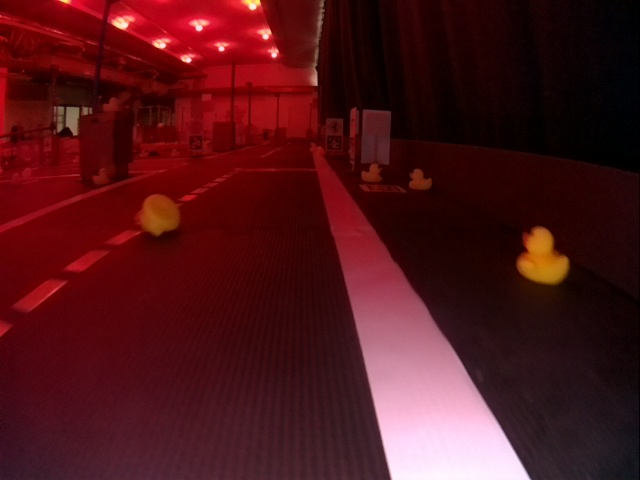Duckie: (520, 225, 570, 284), (135, 195, 181, 233), (409, 168, 430, 188), (363, 164, 382, 182)
QR code: (360, 183, 404, 193)
